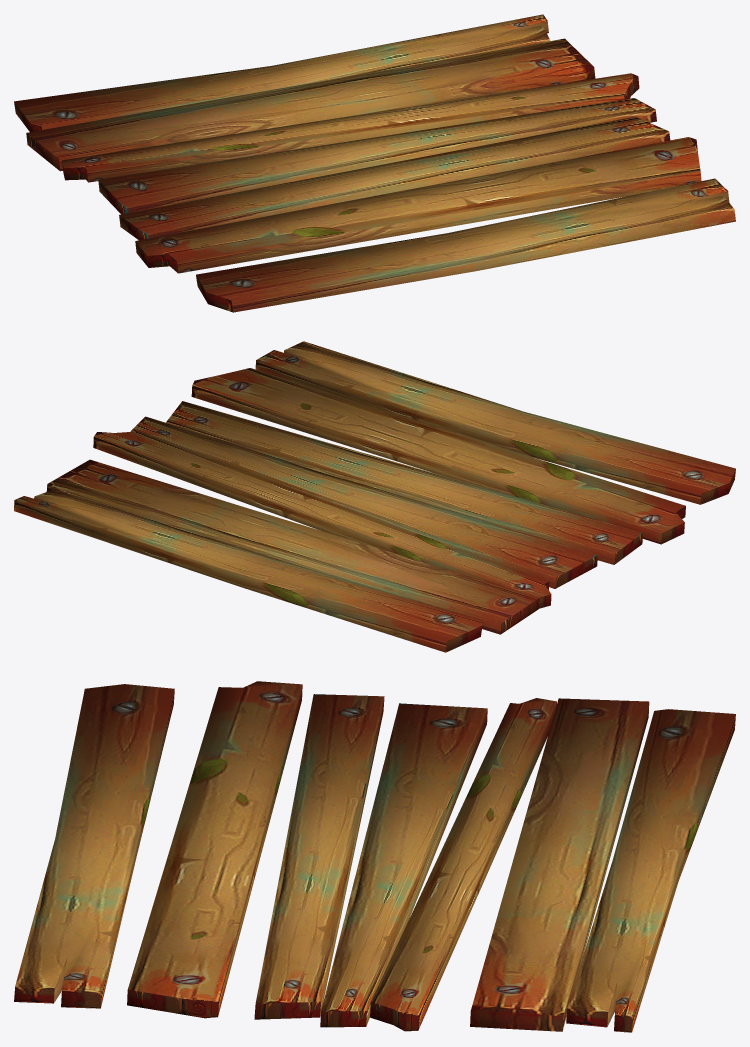
Rendered from muban03.FBX.
The picture shows the model from 3 angles, top to bottom: view 1: azimuth 30°, elevation 25°; view 2: azimuth 150°, elevation 25°; view 3: azimuth 270°, elevation 25°; orthographic projection. The views are drawn at different scales.
Parts seen in each view (by area): view 1: Object025; view 2: Object025; view 3: Object025.
Part boxes in pixels (box(x1,y1,x2,y2)): Object025: box(14, 14, 735, 312); Object025: box(14, 341, 735, 652); Object025: box(14, 681, 735, 1032).
Size of the model in its own units: 29788 by 1205 by 26875.
